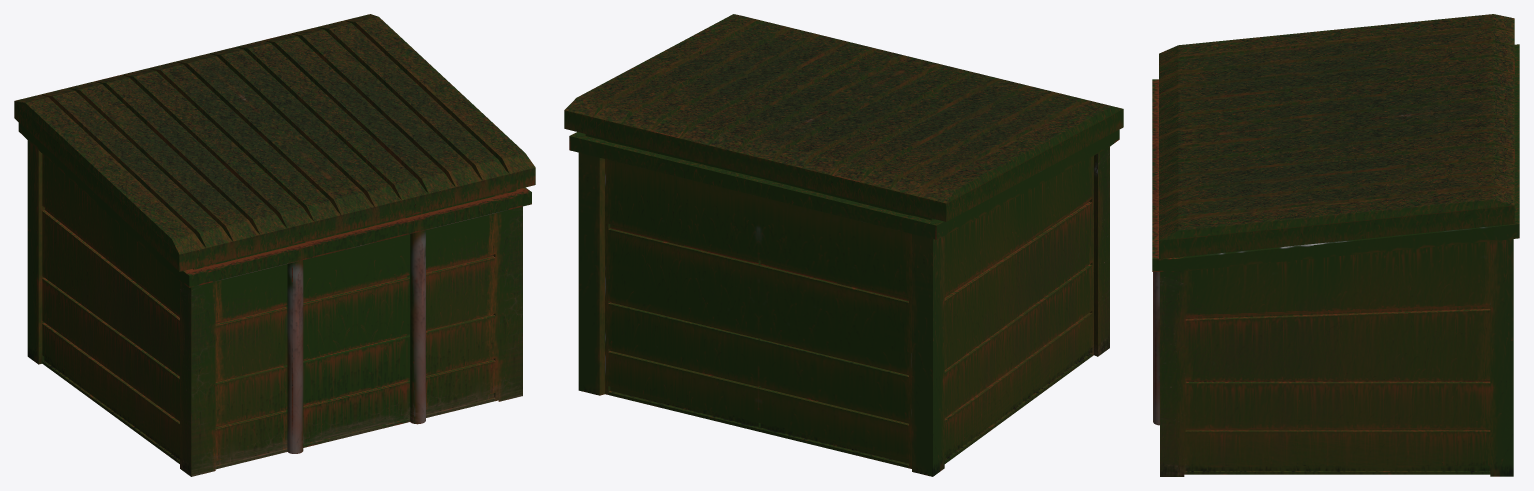
File: dump7.fbx
The picture shows the model from 3 angles, left to right: view 1: azimuth 30°, elevation 25°; view 2: azimuth 150°, elevation 25°; view 3: azimuth 270°, elevation 25°; orthographic projection. The views are drawn at different scales.
Parts seen in each view (by area): view 1: trash, Cube.004; view 2: trash, Cube.004; view 3: trash, Cube.004.
Part boxes in pixels (x1,y1,x2,y2): trash: (18,123,531,476); Cube.004: (14,14,535,271); trash: (569,129,1119,476); Cube.004: (564,14,1123,221); trash: (1152,44,1519,476); Cube.004: (1159,14,1514,259).
Size of the model in its own units: 359 by 254 by 298.
